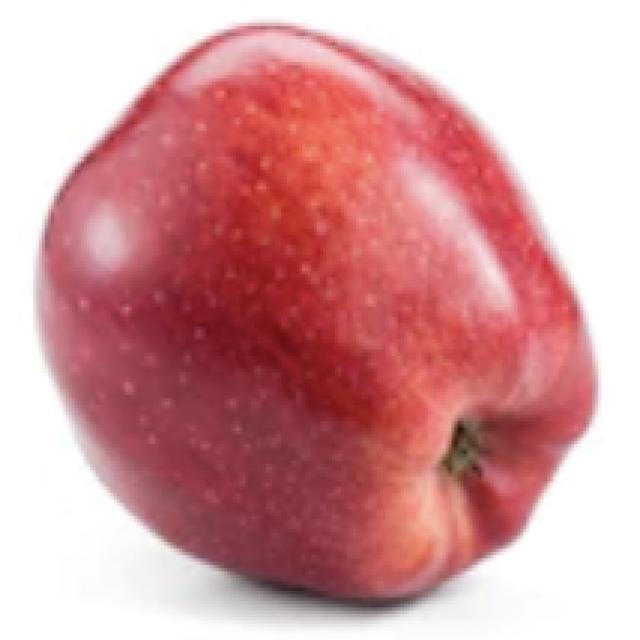Fresh Apple: (72, 32, 548, 595)
